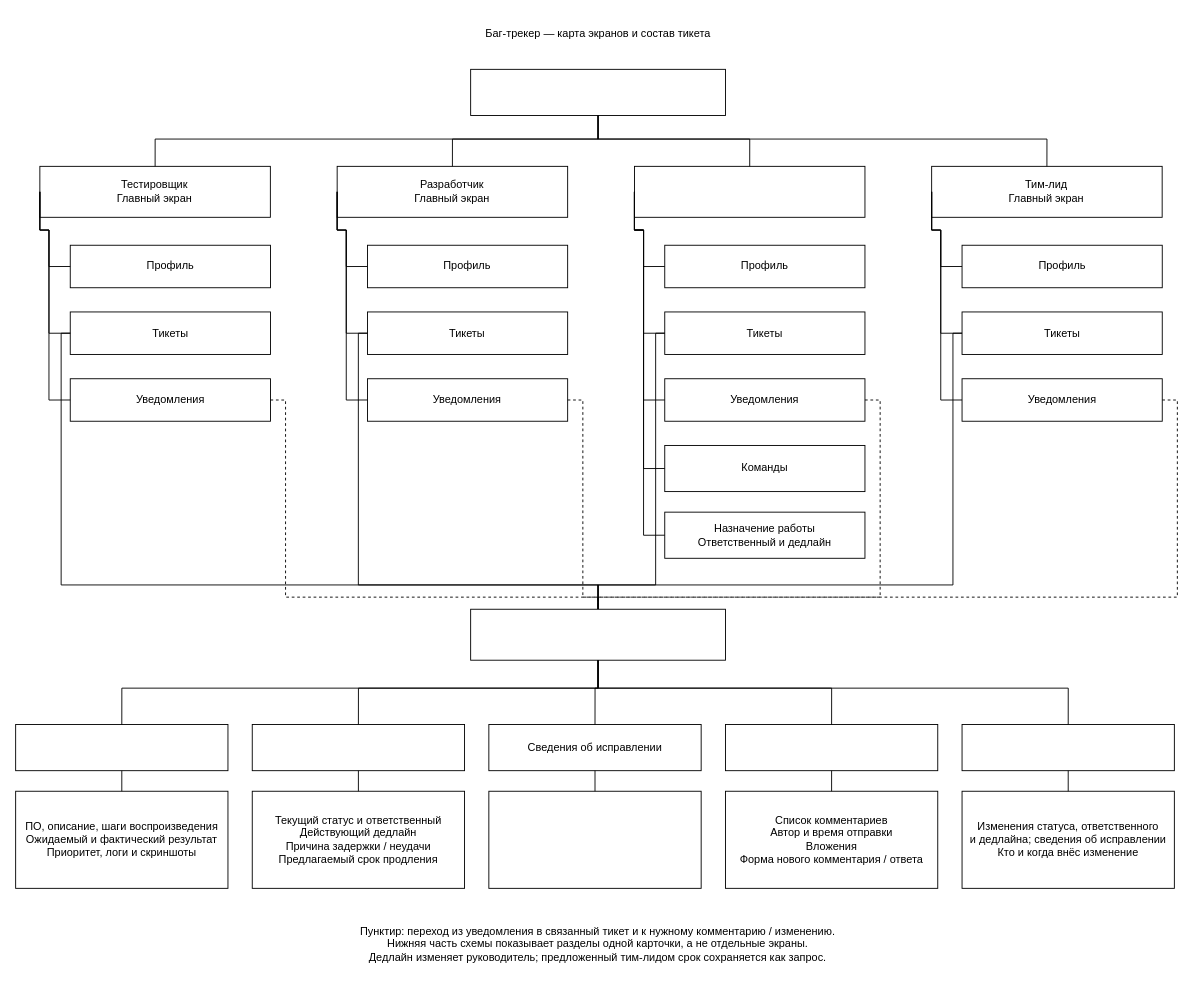
This 1197x991 diagram has some shape labels left out. The box of each missing label's shape, as (x1, y1, x2, y2) in pixels:
История изменений: (961, 724, 1174, 771)
Карточка тикета Общая для всех ролей: (470, 608, 725, 660)
Обсуждение: (725, 724, 938, 771)
Описание и материалы бага: (15, 724, 228, 771)
Регистрация / авторизация: (470, 68, 725, 115)
Релиз / версия ПО Ссылки на коммиты / MR: (488, 790, 701, 888)
Руководитель проекта Главный экран: (634, 165, 865, 217)
Статус и планирование: (251, 724, 465, 771)
